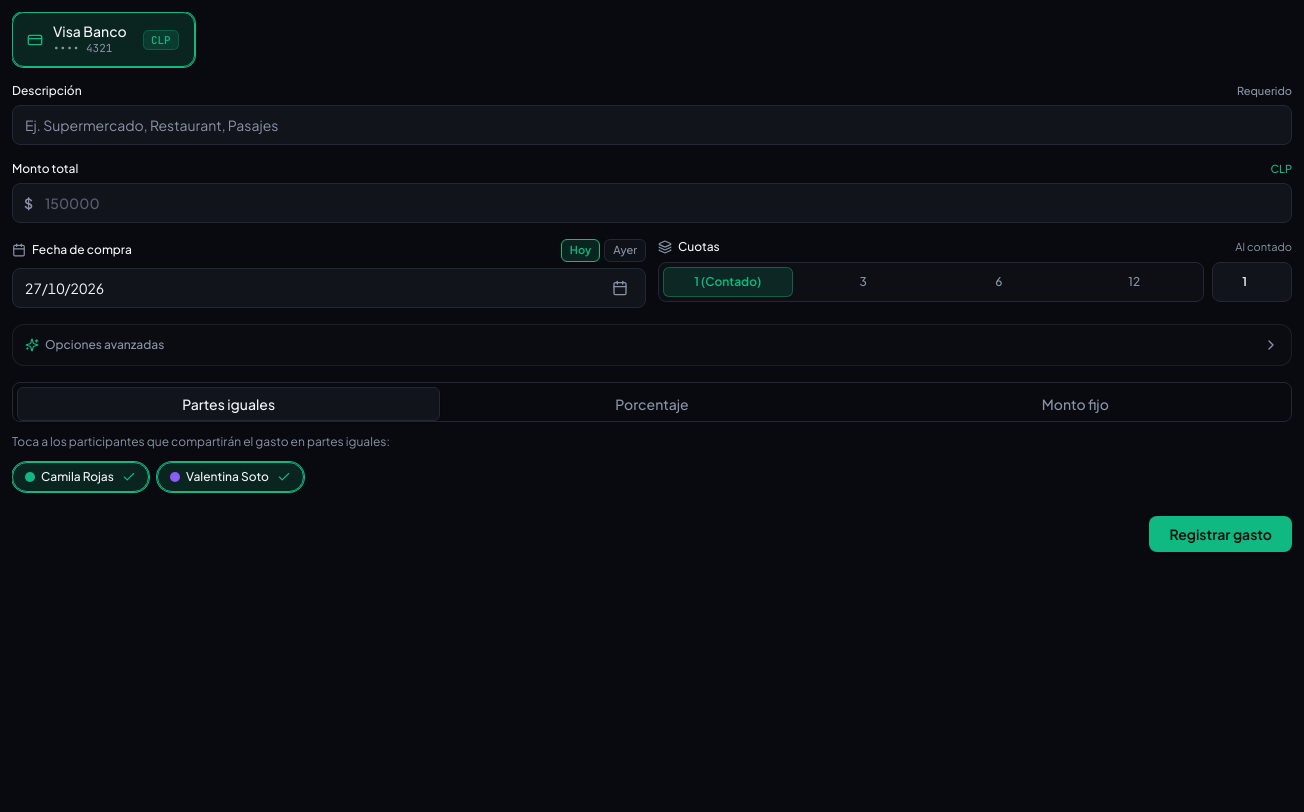
Test: QuickExpenseForm (Spec 004 T7) › Error Resilience and Inline 422 Mapping › maps FastAPI/Pydantic 422 validation errors inline and keeps form open
This screenshot has width=1304, height=812.
Type "Supermercado" into the field labelled "Descripción Requerido" at (652, 125), box x1=12 y1=105 x2=1292 y2=145
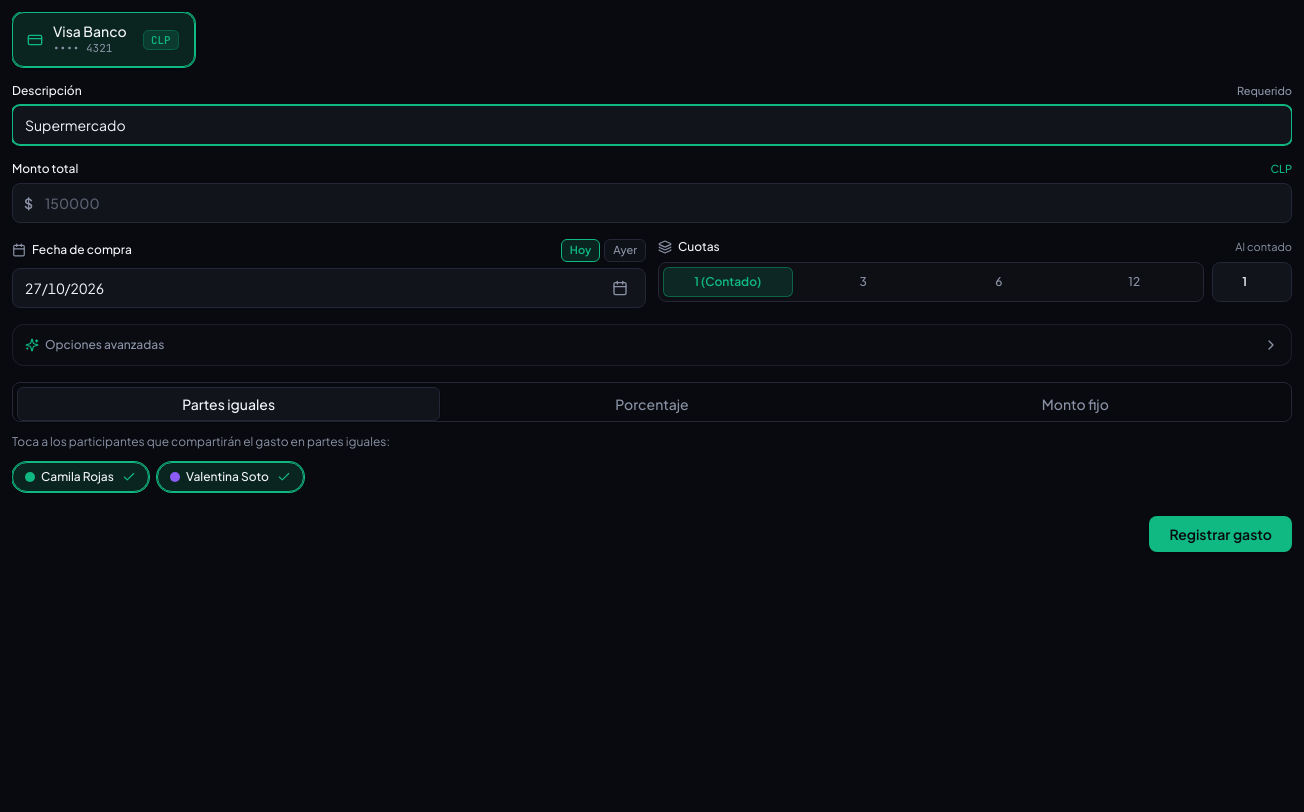
Type "25000" into the field labelled "Monto total CLP" at (652, 203), box x1=12 y1=183 x2=1292 y2=223
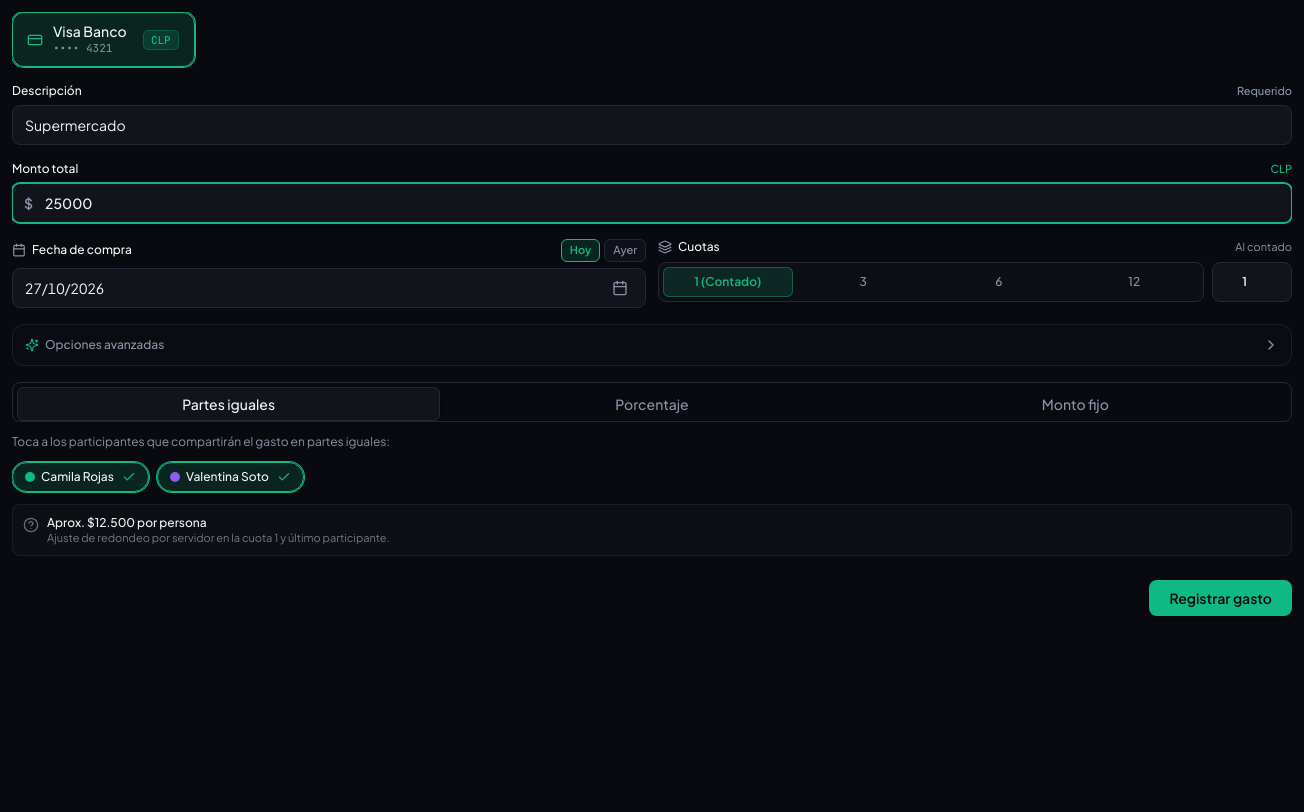
Click the button "Registrar gasto" at (1221, 598), box x1=1150 y1=580 x2=1292 y2=616
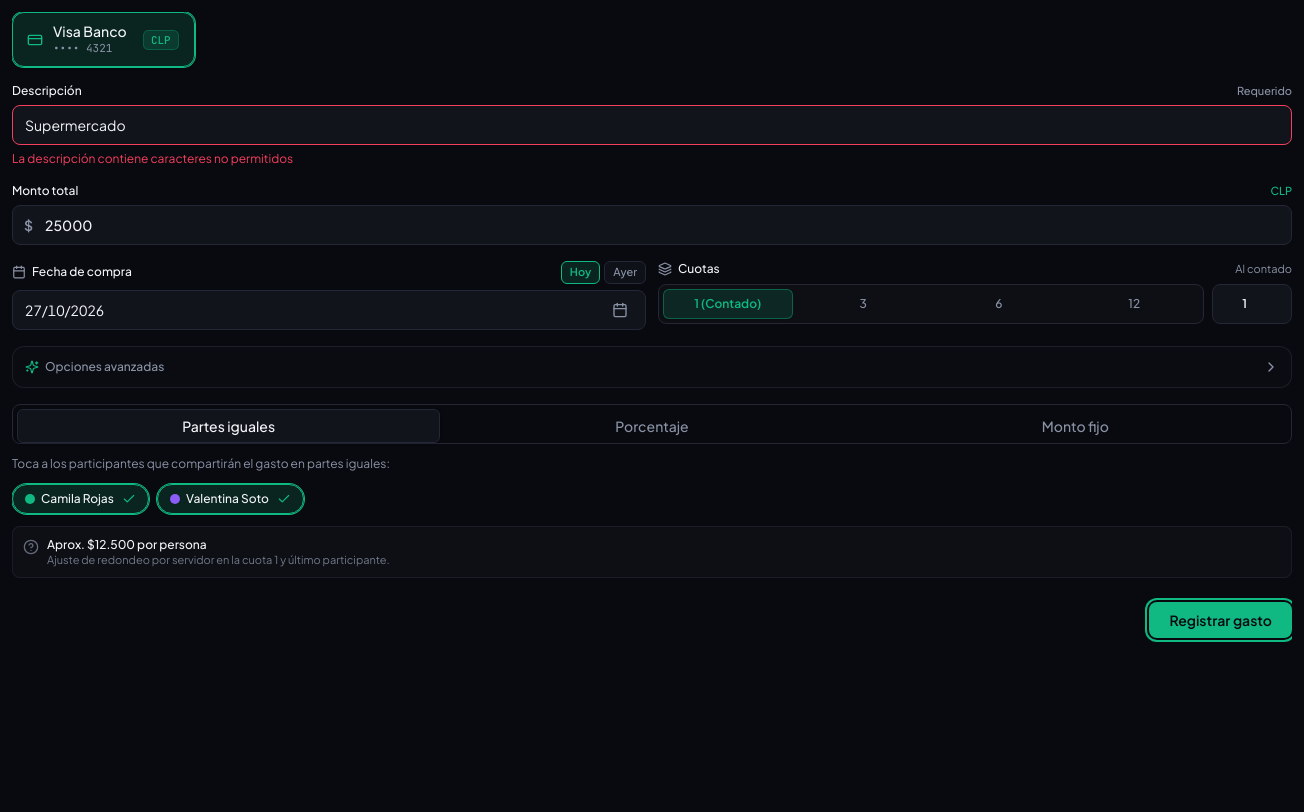
Expected: the text "La descripción contiene caracteres no permitidos" is shown, x1=12 y1=151 x2=293 y2=166
